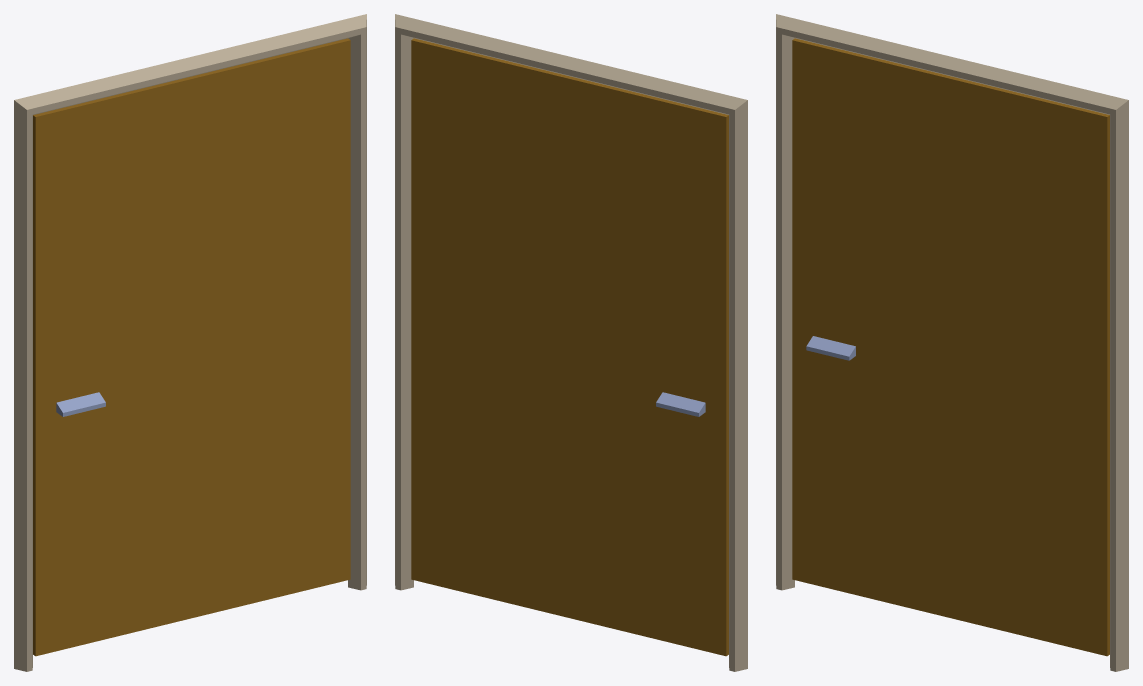
The model's file is door_inside.fbx.
The picture shows the model from 3 angles, left to right: view 1: azimuth 30°, elevation 25°; view 2: azimuth 150°, elevation 25°; view 3: azimuth 330°, elevation 25°; orthographic projection.
Visible parts, largest first — view 1: door_inside; view 2: door_inside; view 3: door_inside.
Boxes of the visible parts, <box> form: door_inside: <box>14,14,366,671</box>; door_inside: <box>395,14,747,671</box>; door_inside: <box>776,14,1128,671</box>.
Bounding box in the file's own units: 150 × 231 × 13.69.
